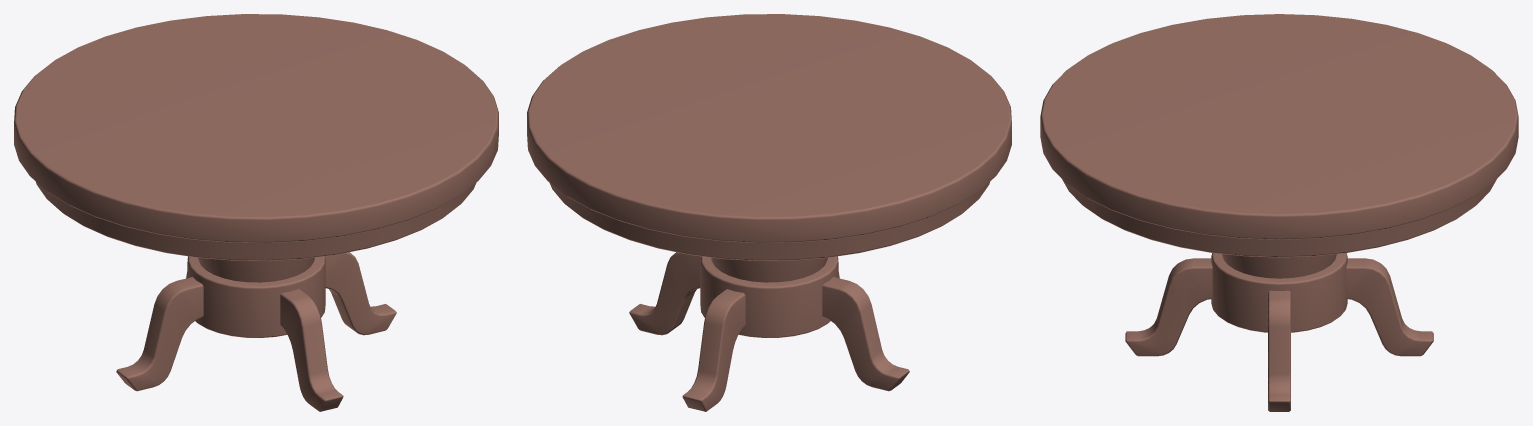
Rendered from Store_20_Table_1.glb.
3 views of the same model, side by side, from view 1: azimuth 30°, elevation 25°; view 2: azimuth 150°, elevation 25°; view 3: azimuth 270°, elevation 25° (orthographic).
Visible parts, largest first — view 1: Store_20_Table_1; view 2: Store_20_Table_1; view 3: Store_20_Table_1.
Boxes of the visible parts, left/top/right/bottom form: Store_20_Table_1: left=14, top=14, right=498, bottom=411; Store_20_Table_1: left=527, top=14, right=1011, bottom=411; Store_20_Table_1: left=1040, top=14, right=1518, bottom=411.
Size of the model in its own units: 1.47 by 0.8066 by 1.47.
1 material, 1 textured.
